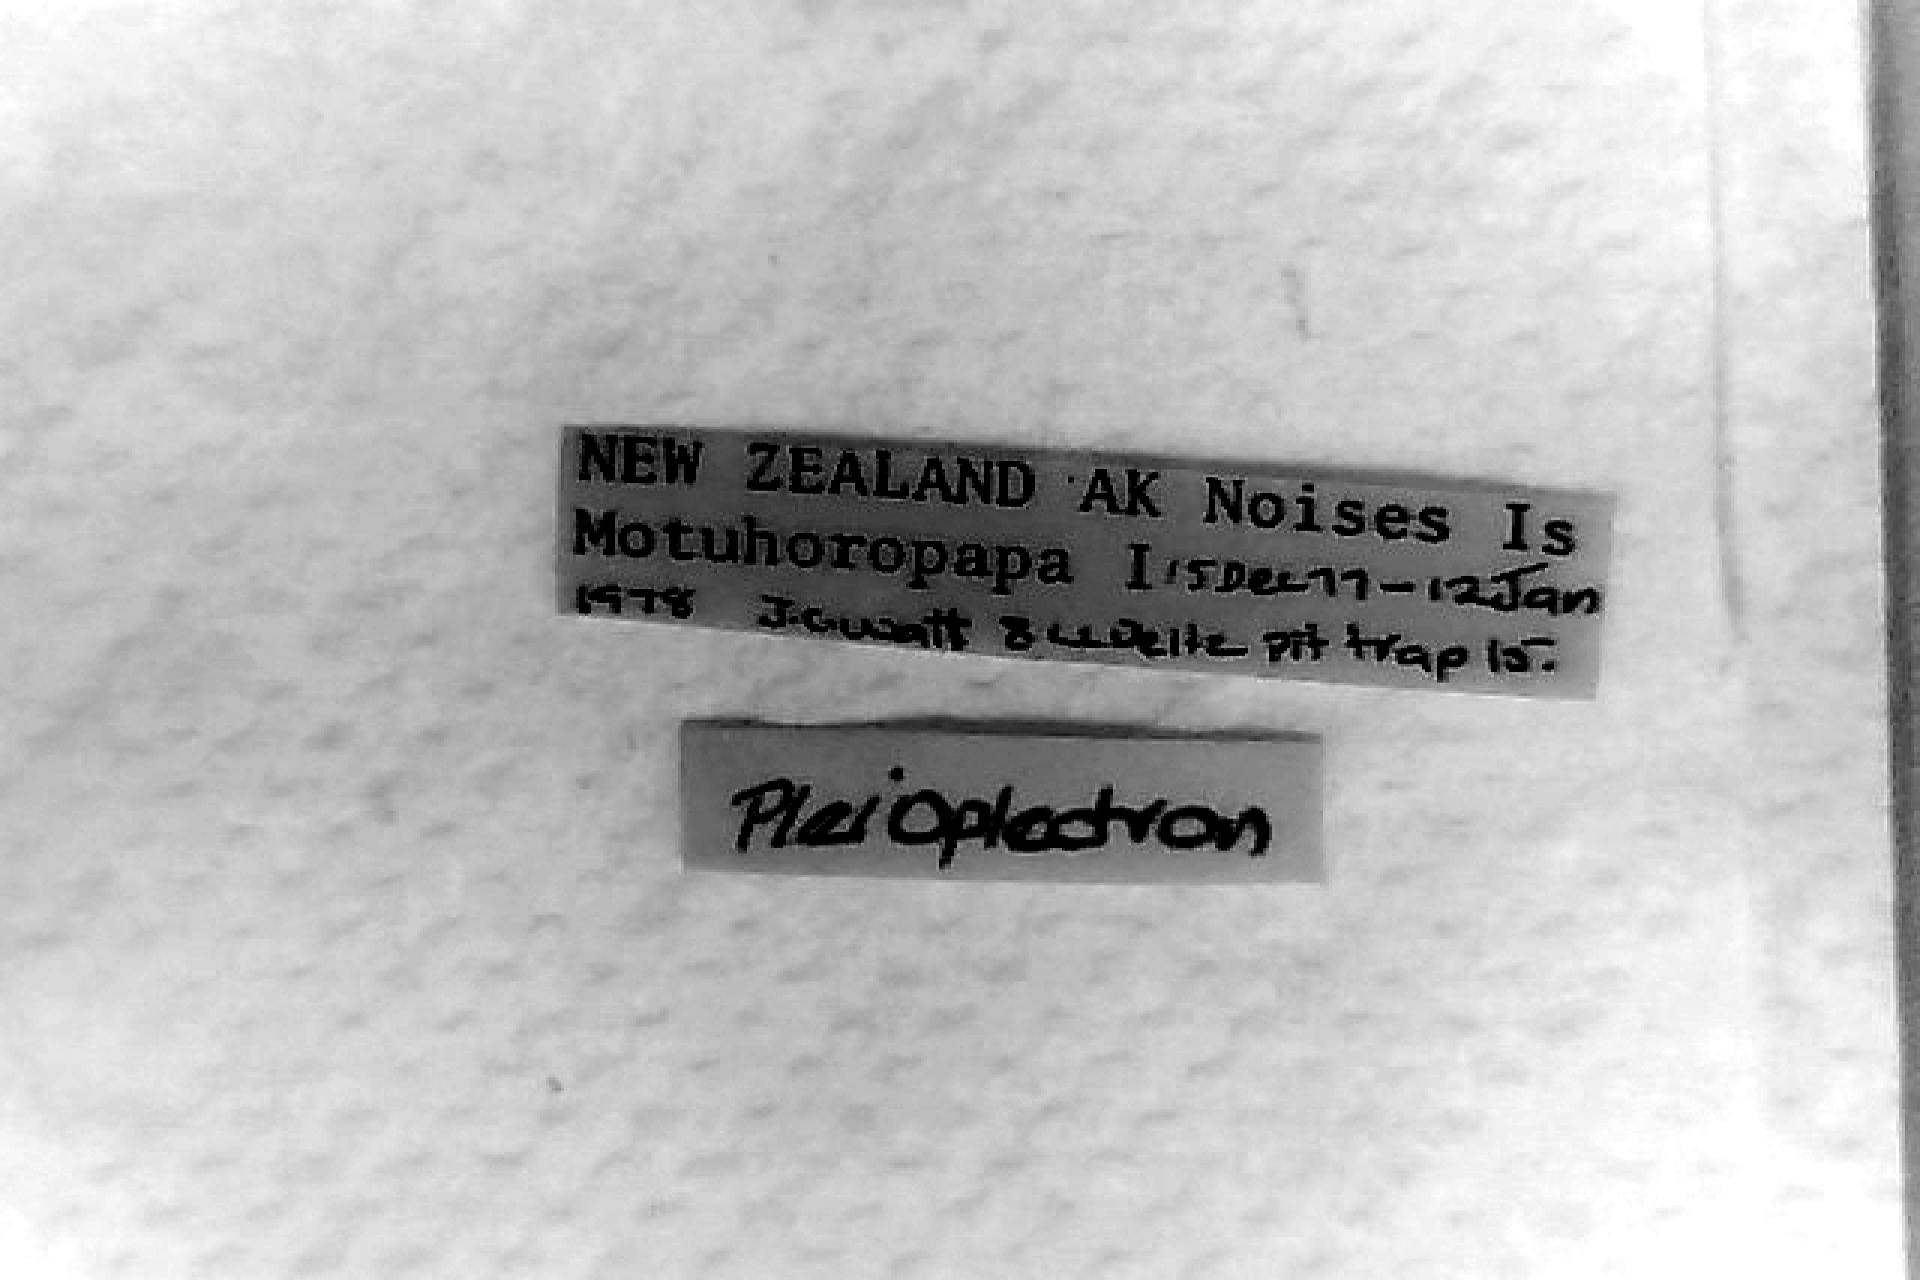hand_label: (683, 729, 1324, 881)
mixed_label: (559, 427, 1613, 694)
